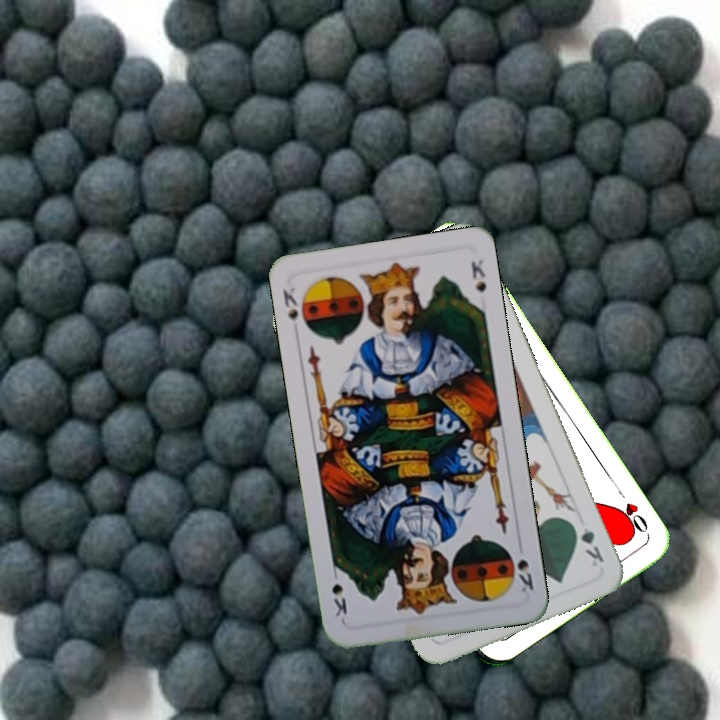GK: (567, 517, 607, 569)
HO: (611, 485, 652, 538)
SK: (513, 555, 536, 595), (279, 284, 301, 325)
